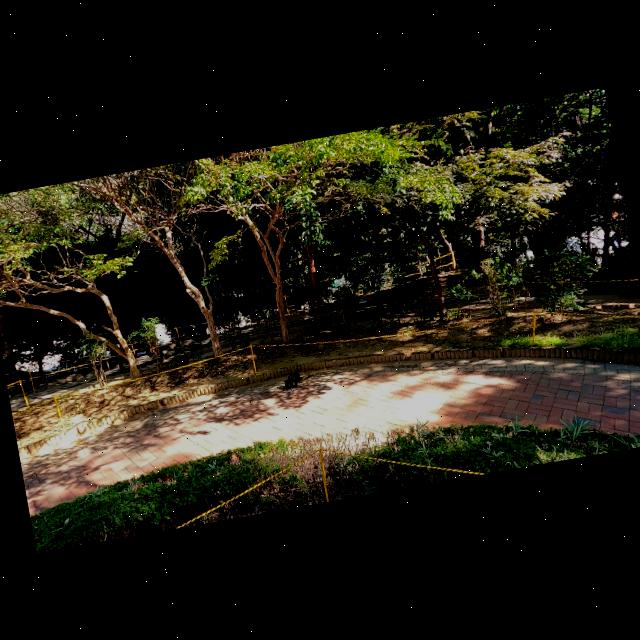trash: (282, 376, 298, 392), (286, 371, 301, 384)
